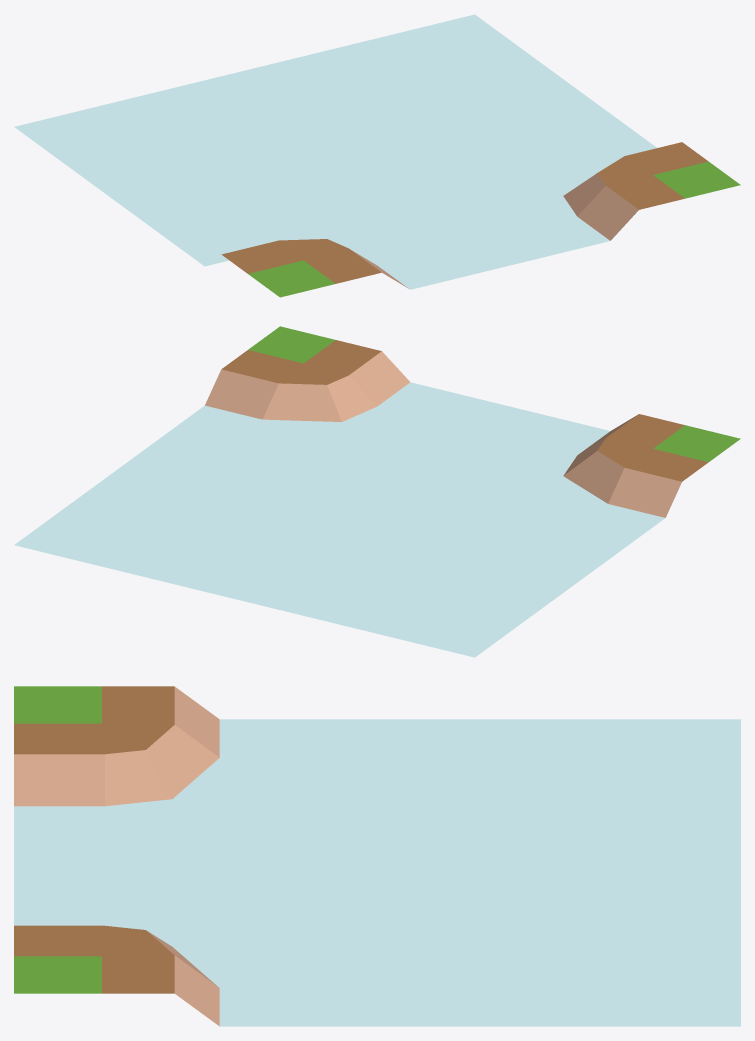
The model's file is ground_riverSideOpen.glb.
3 renders of one model, top to bottom at view 1: azimuth 30°, elevation 25°; view 2: azimuth 150°, elevation 25°; view 3: azimuth 270°, elevation 25°, orthographic. The views are drawn at different scales.
Visible parts, largest first — view 1: ground_riverSideOpen; view 2: ground_riverSideOpen; view 3: ground_riverSideOpen.
Part boxes in pixels (box(x1,y1,x2,y2)): ground_riverSideOpen: box(14, 14, 740, 297); ground_riverSideOpen: box(14, 326, 740, 657); ground_riverSideOpen: box(14, 686, 740, 1026).
Bounding box in the file's own units: 1 × 0.05 × 1.
